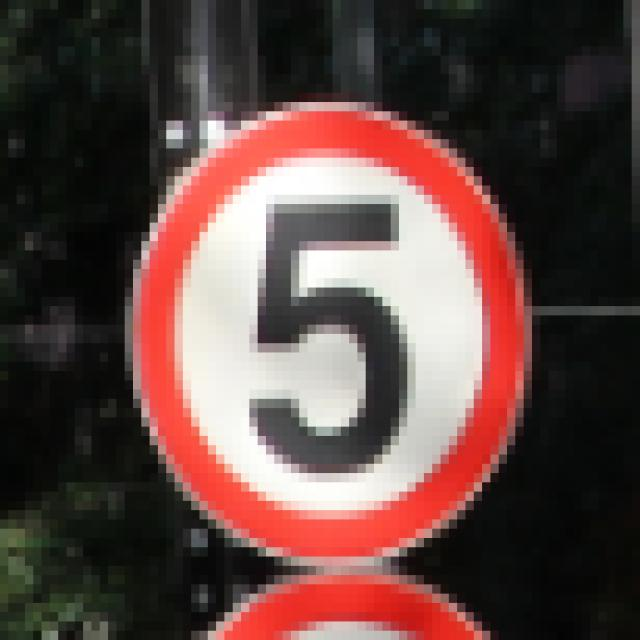speed limit 10: (130, 103, 532, 560)
